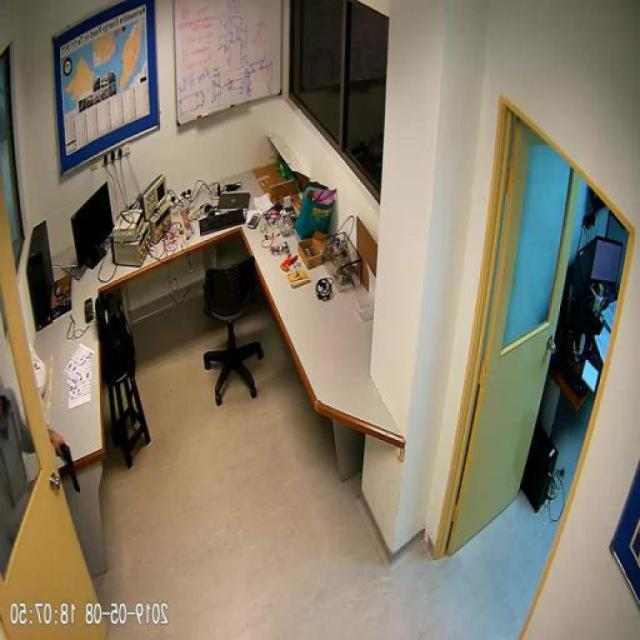pistol: (60, 440, 81, 495)
